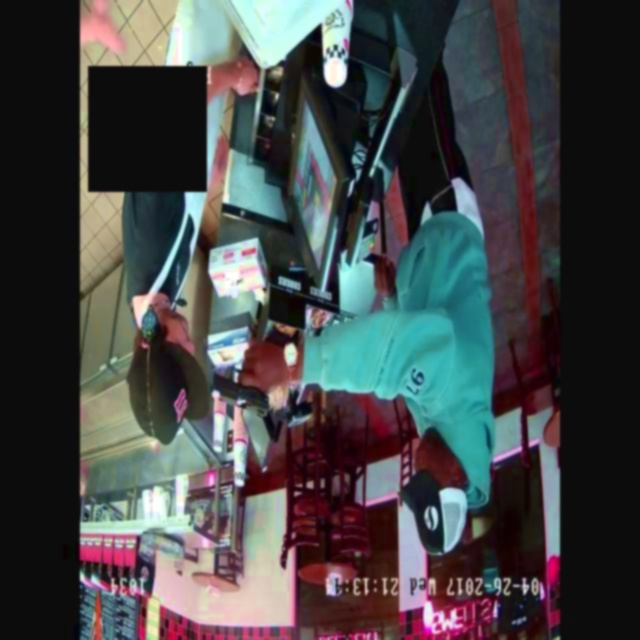gun: (205, 357, 284, 436)
